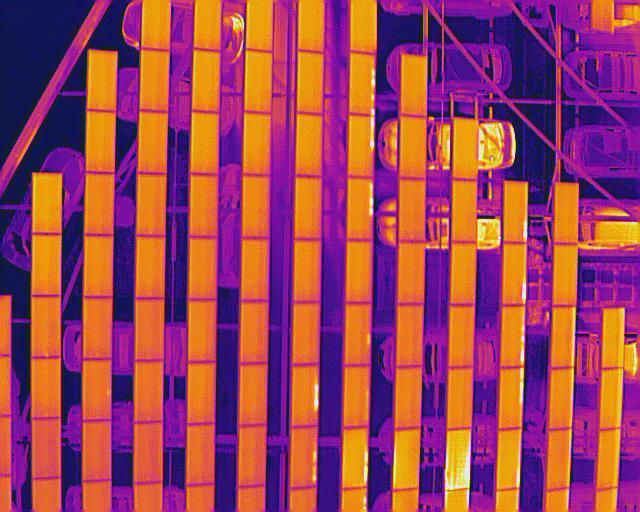Cell: (343, 302, 372, 365)
Cell-Multi: (348, 52, 376, 114)
No-Anomaly: (85, 110, 117, 172), (135, 172, 166, 236), (237, 425, 268, 488), (134, 235, 165, 298), (82, 418, 112, 483), (292, 302, 322, 366), (31, 356, 61, 419), (83, 298, 113, 361), (84, 173, 114, 236), (83, 359, 113, 422), (133, 418, 162, 483), (137, 111, 166, 176), (189, 174, 218, 239), (239, 363, 268, 428), (31, 293, 60, 358), (397, 177, 426, 242), (134, 297, 163, 362), (241, 174, 270, 238), (189, 236, 218, 300), (189, 111, 218, 175), (138, 49, 168, 110), (87, 50, 117, 111), (31, 234, 61, 295), (191, 49, 220, 112), (242, 112, 271, 175), (395, 242, 424, 305), (449, 241, 478, 304), (32, 172, 61, 235), (392, 426, 420, 491), (293, 238, 321, 303), (186, 421, 214, 485), (84, 234, 112, 298), (241, 237, 269, 301), (241, 301, 269, 365), (345, 240, 373, 303), (344, 365, 372, 428), (396, 304, 424, 367), (134, 360, 161, 425), (545, 429, 572, 493), (296, 113, 323, 177), (188, 362, 215, 426), (32, 419, 60, 480), (244, 50, 271, 113), (451, 116, 478, 179), (399, 115, 426, 178), (452, 180, 478, 245), (189, 299, 215, 364), (294, 178, 321, 240), (297, 51, 323, 115), (395, 366, 420, 432), (448, 305, 474, 368), (447, 367, 473, 429), (596, 427, 621, 491), (550, 305, 575, 369), (553, 182, 578, 245), (548, 366, 572, 431), (599, 368, 624, 430), (553, 244, 578, 306), (400, 54, 425, 116), (602, 308, 625, 371)
Unclassified: (346, 176, 374, 241), (289, 427, 318, 488), (342, 425, 369, 488), (291, 364, 318, 427), (348, 114, 374, 176), (501, 242, 526, 306), (496, 427, 521, 490), (445, 428, 470, 491), (498, 367, 523, 430), (500, 306, 525, 368), (504, 182, 528, 243)
